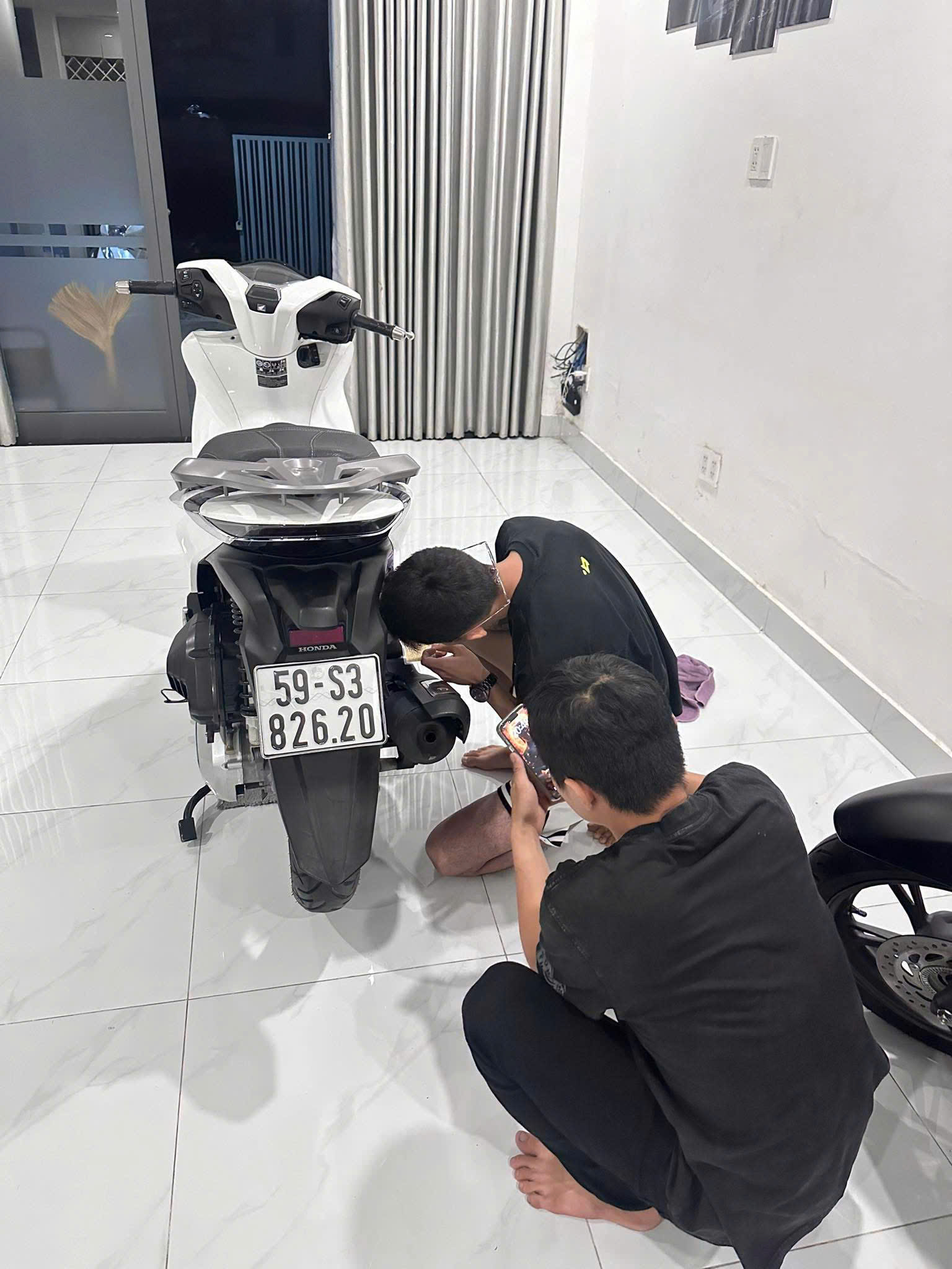Bien-so: (252, 659, 384, 763)
